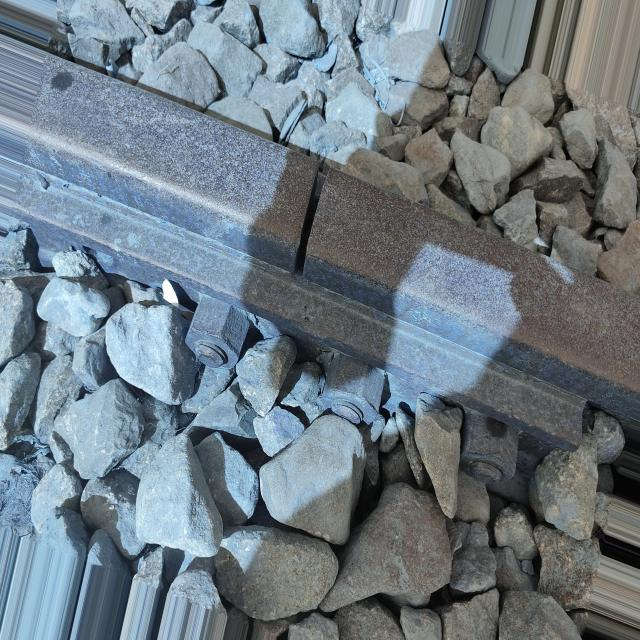crack: (282, 148, 343, 292)
